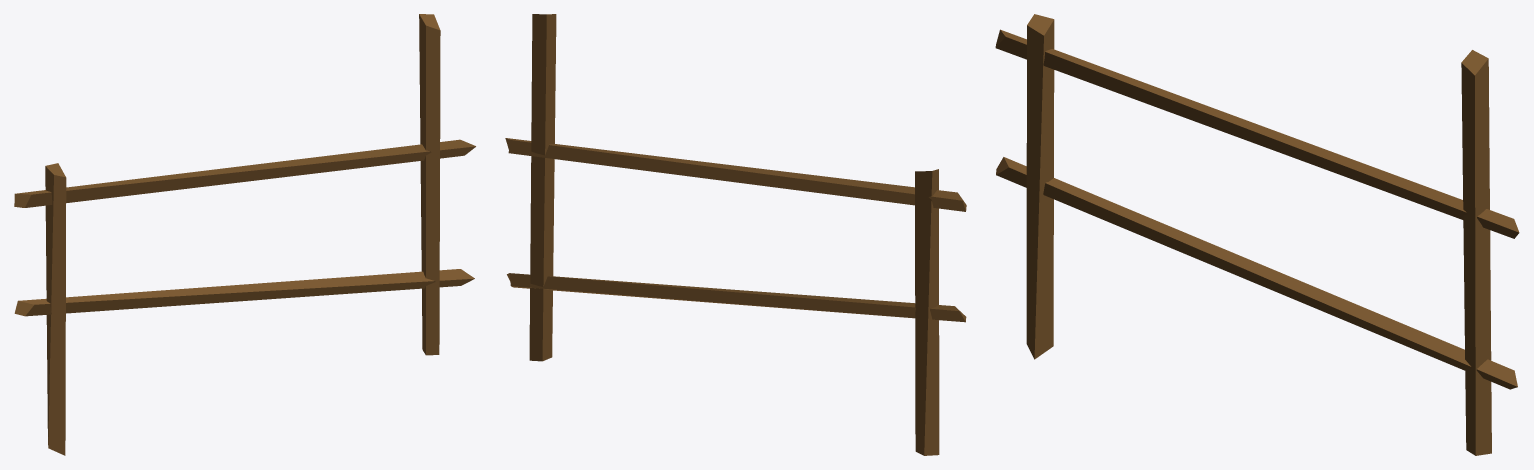
The model's file is Wooden_FencesUp2.fbx.
3 renders of one model, left to right at view 1: azimuth 30°, elevation 25°; view 2: azimuth 150°, elevation 25°; view 3: azimuth 330°, elevation 25°, orthographic. The views are drawn at different scales.
Parts seen in each view (by area): view 1: Wooden_FencesUp2; view 2: Wooden_FencesUp2; view 3: Wooden_FencesUp2.
Part boxes in pixels (x1,y1,x2,y2): Wooden_FencesUp2: (14, 14, 475, 455); Wooden_FencesUp2: (505, 14, 966, 455); Wooden_FencesUp2: (995, 14, 1519, 455).
Size of the model in its own units: 794 by 578 by 38.31.
